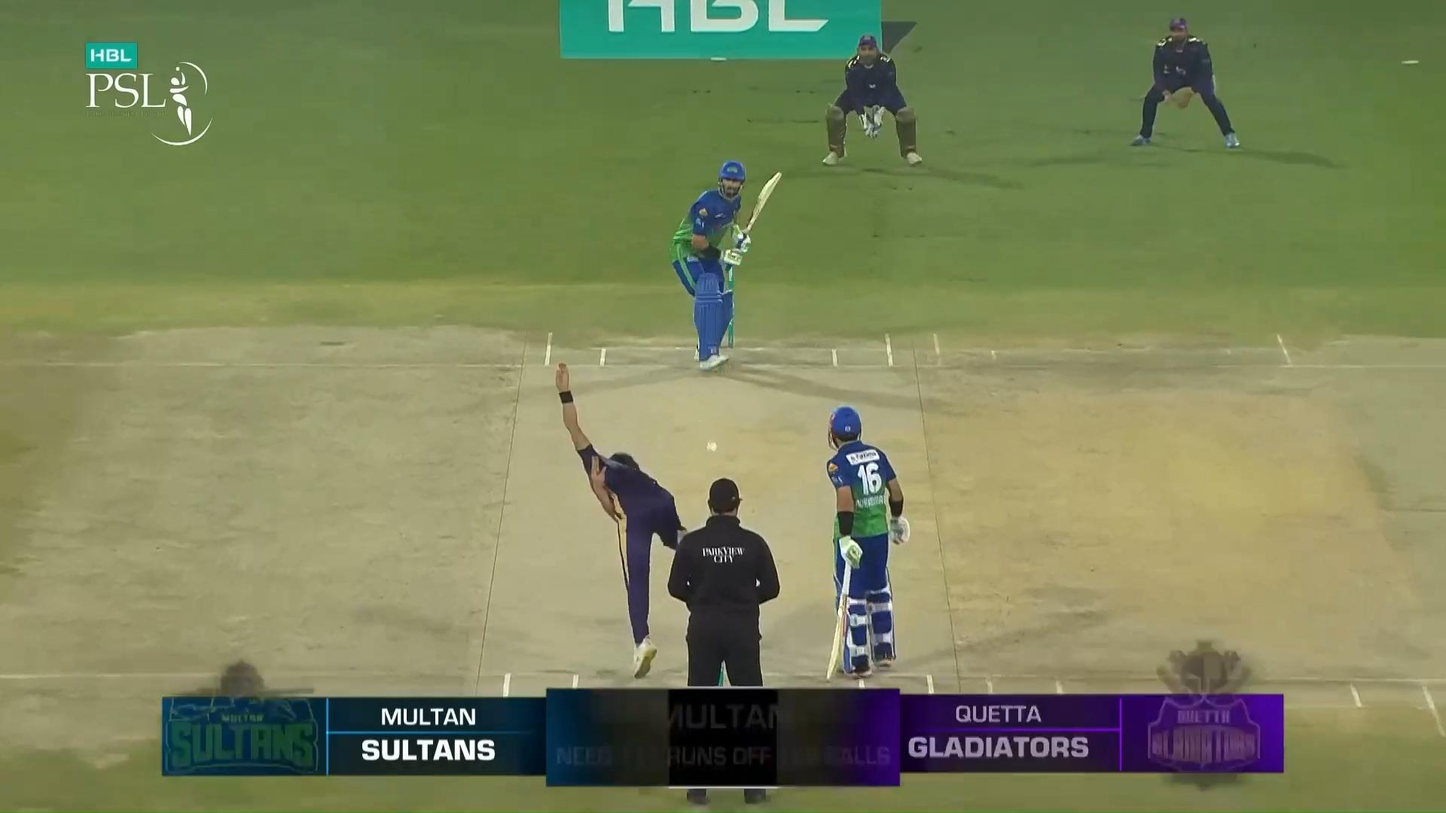batsman: (670, 161, 782, 372)
